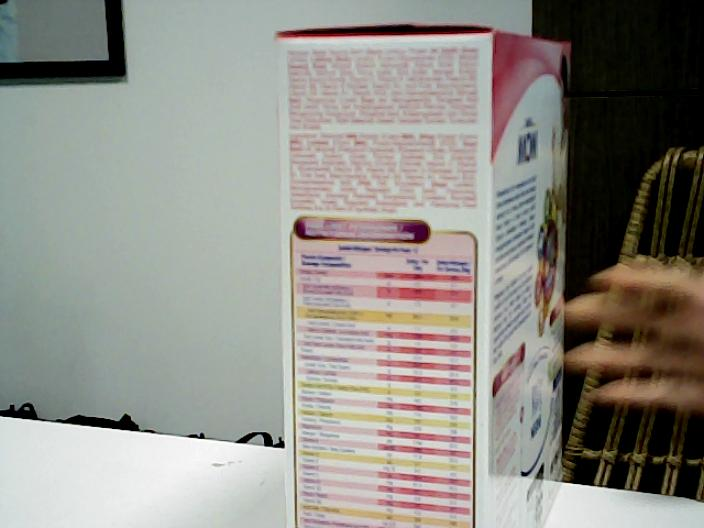MaternalMilkPowder_600-699g_Halal_NonHealthy: (287, 43, 561, 528)
